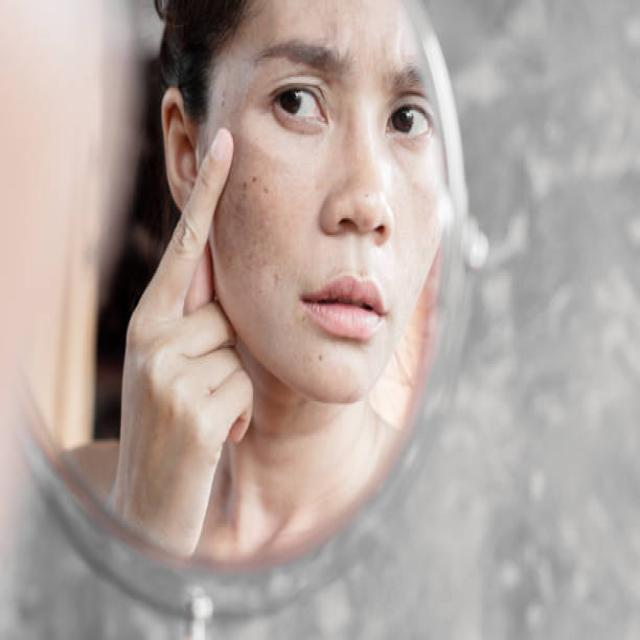Dry-Skin: (223, 155, 293, 306)
